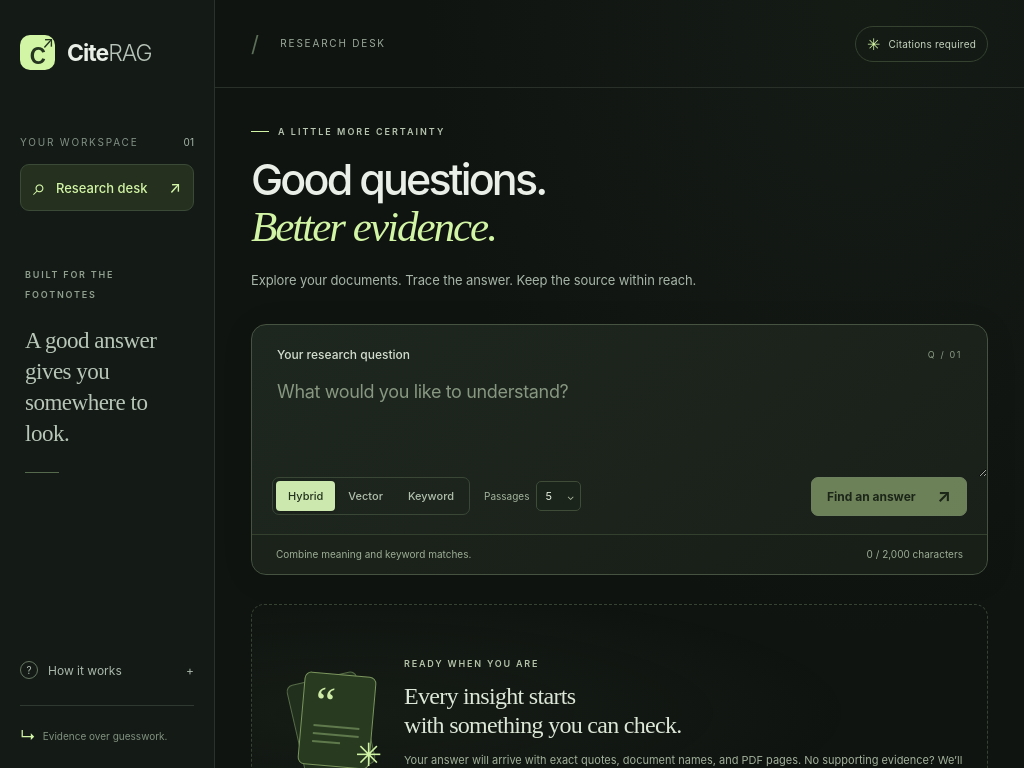
Test: research workspace › handles connection failures and malformed answer contracts
This screenshot has width=1024, height=768.
Type "A synthetic question" into the text box labelled "Your research question".
click(620, 420); type("A synthetic question")  # box [252,362,987,477]
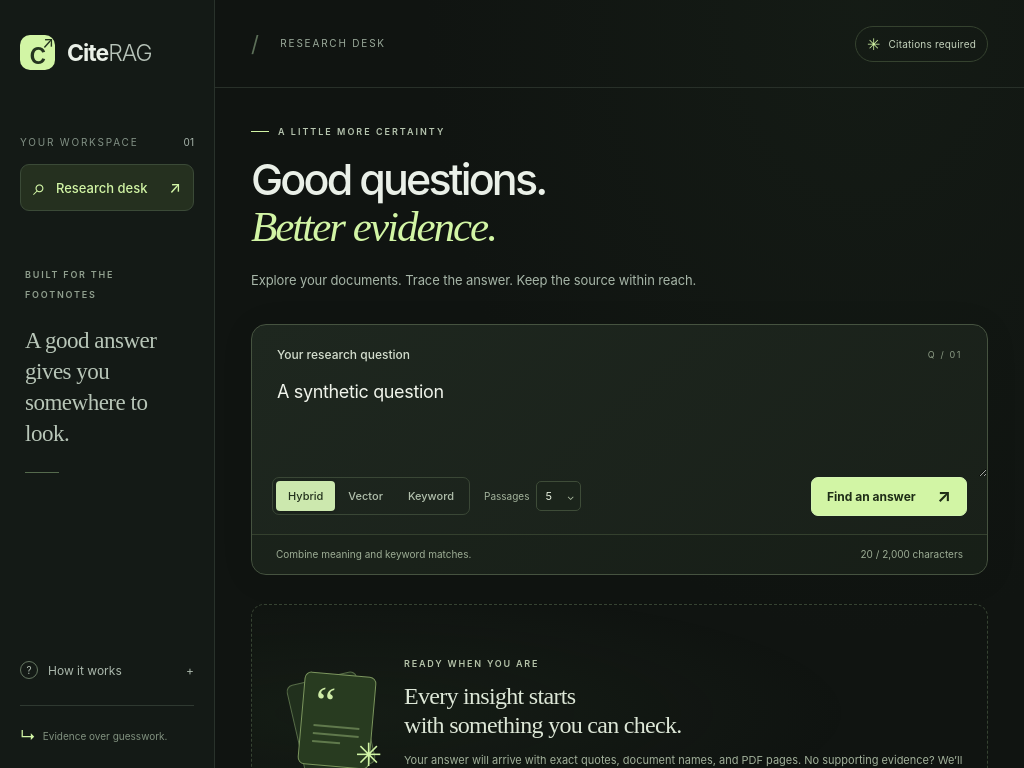
Click the button "Find an answer ↗".
click(889, 496)  # box [811,477,967,516]
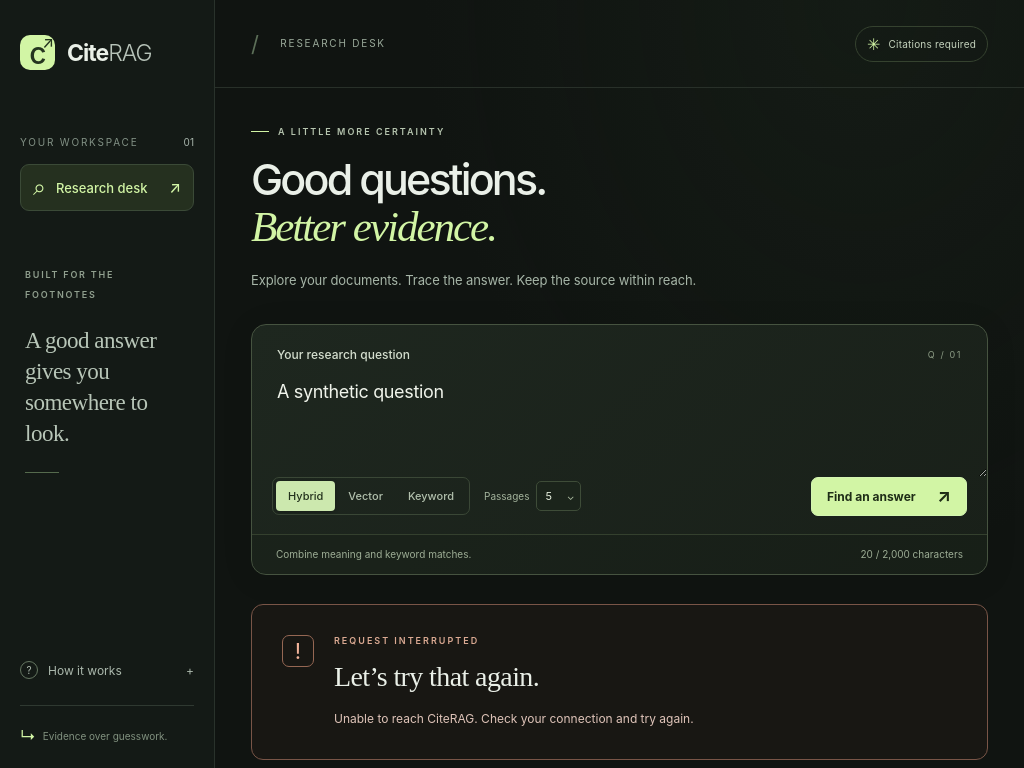
Check: the message shows "Unable to reach CiteRAG", box [334,711,694,726]
Click the button "Find an answer ↗".
click(889, 496)  # box [811,477,967,516]
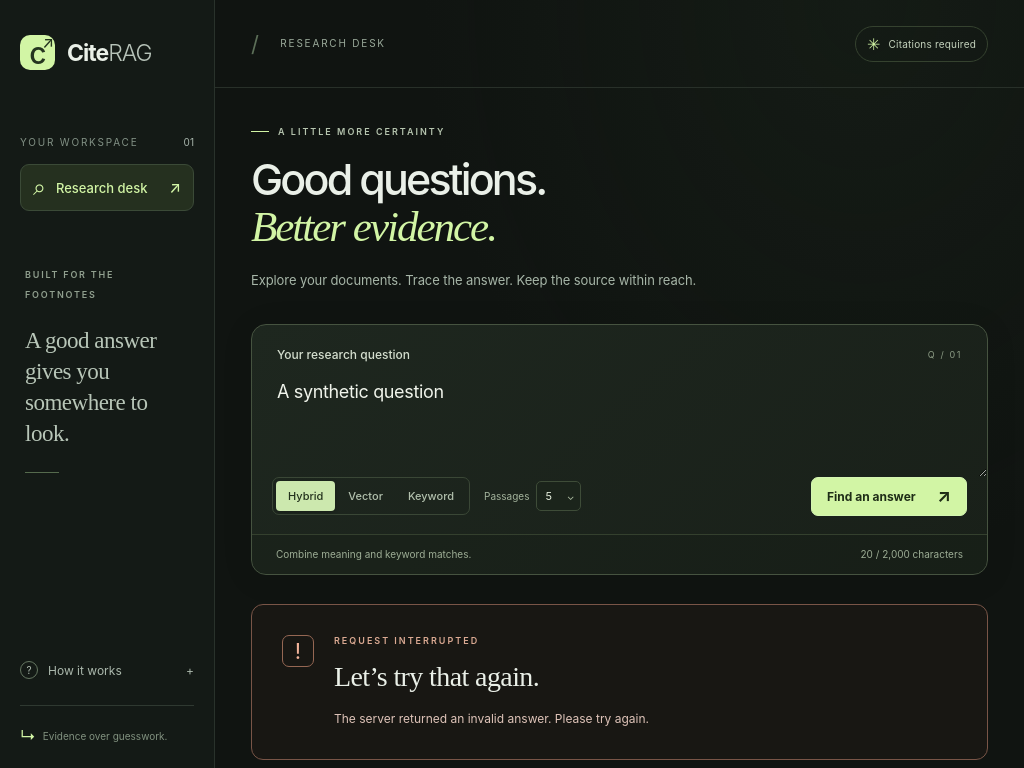
Check: the message shows "invalid answer", box [334,711,649,726]
